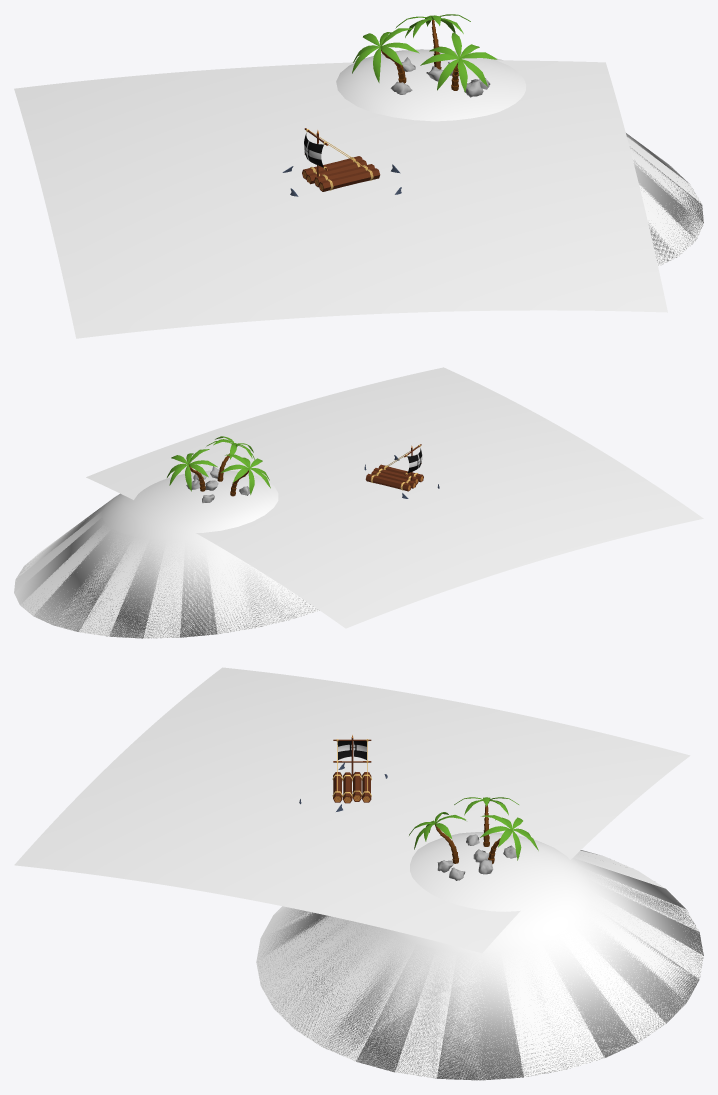
Rendered from pirate-raft-world.glb.
3 views of the same model, one above another, from view 1: azimuth 30°, elevation 25°; view 2: azimuth 150°, elevation 25°; view 3: azimuth 270°, elevation 25° (orthographic). The views are drawn at different scales.
Parts seen in each view (by area): view 1: Ocean, Island, Tree Canopy.001, Tree Canopy, Log, Tree Canopy.002; view 2: Ocean, Island, Tree Canopy.002, Tree Canopy; view 3: Ocean, Island, Tree Canopy.002.
Boxes of the visible parts, <box> form: Ocean: <box>14,60,667,338</box>; Island: <box>336,49,703,266</box>; Tree Canopy.001: <box>420,32,497,92</box>; Tree Canopy: <box>352,28,419,82</box>; Log: <box>318,168,380,191</box>; Tree Canopy.002: <box>395,14,470,37</box>; Ocean: <box>86,367,703,628</box>; Island: <box>14,470,319,638</box>; Tree Canopy.002: <box>167,449,217,491</box>; Tree Canopy: <box>221,454,270,494</box>; Ocean: <box>14,667,690,953</box>; Island: <box>256,832,703,1080</box>; Tree Canopy.002: <box>480,815,538,860</box>.
Size of the model in its own units: 159 by 40.36 by 148.
11 materials, 1 textured.
